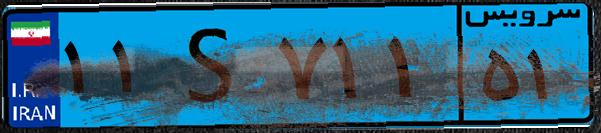1: (385, 28, 445, 110), (330, 28, 385, 110), (57, 26, 110, 100), (525, 38, 570, 115), (110, 28, 158, 98)
5: (475, 38, 525, 113)
7: (270, 28, 330, 110)
S: (158, 12, 270, 120)
